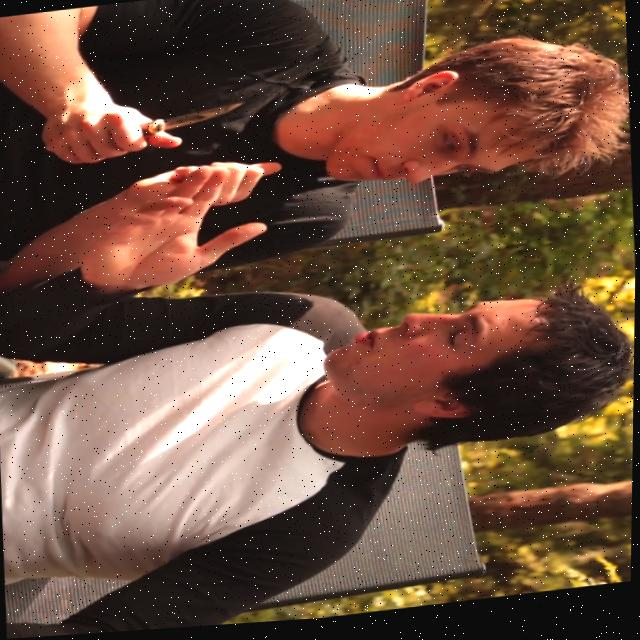knife: (140, 99, 257, 146)
